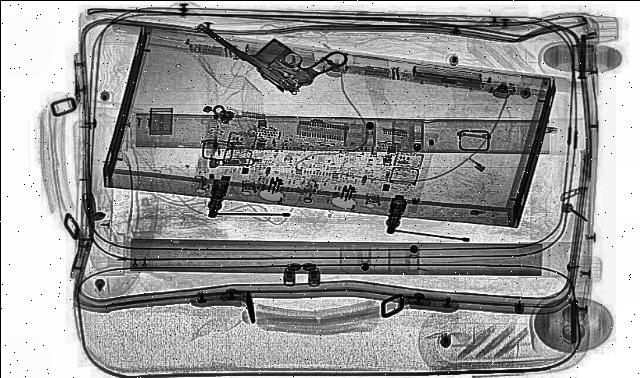Gun: (198, 0, 364, 96)
